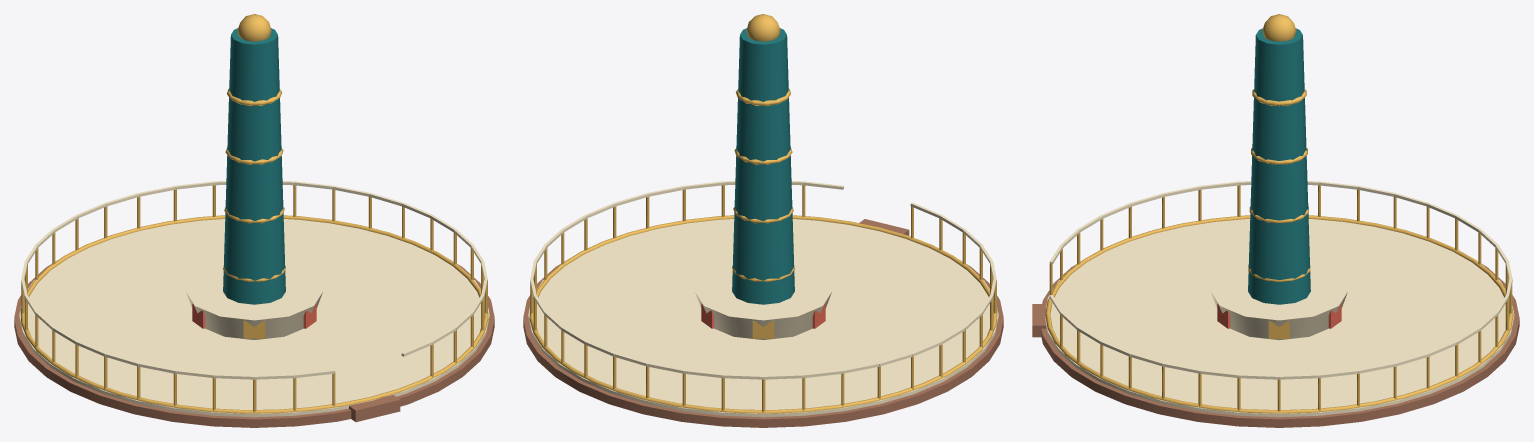
The model's file is ride_swings.glb.
The picture shows the model from 3 angles, left to right: view 1: azimuth 30°, elevation 25°; view 2: azimuth 150°, elevation 25°; view 3: azimuth 270°, elevation 25°; orthographic projection.
Visible parts, largest first — view 1: ride_swings; view 2: ride_swings; view 3: ride_swings.
Boxes of the visible parts, <box> form: ride_swings: <box>14,14,494,427</box>; ride_swings: <box>523,14,1003,427</box>; ride_swings: <box>1032,14,1519,427</box>.
Bounding box in the file's own units: 11.2 × 8 × 11.36.
